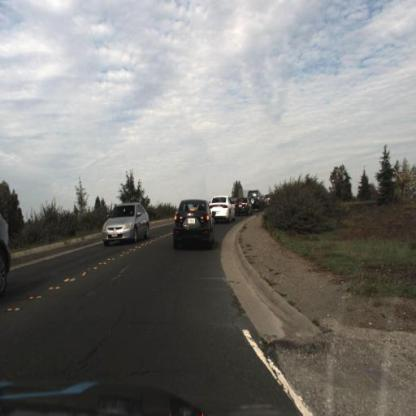car: (95, 192, 161, 252), (172, 194, 217, 257), (100, 201, 153, 249), (209, 192, 237, 224), (211, 193, 235, 226), (231, 189, 252, 221), (249, 186, 267, 215), (247, 186, 264, 212), (234, 199, 251, 220)
